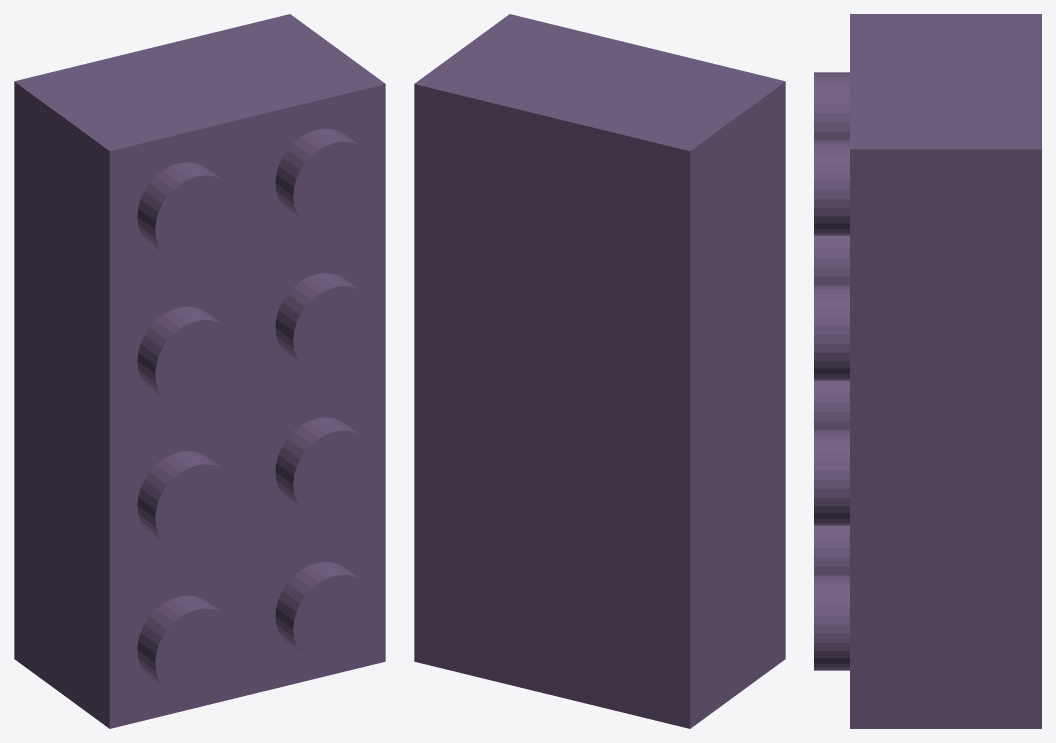
Rendered from brick_4.glb.
The picture shows the model from 3 angles, left to right: view 1: azimuth 30°, elevation 25°; view 2: azimuth 150°, elevation 25°; view 3: azimuth 270°, elevation 25°; orthographic projection.
Parts seen in each view (by area): view 1: world; view 2: world; view 3: world.
Part boxes in pixels (x1=…): world: x1=14, y1=14, x2=385, y2=728; world: x1=414, y1=14, x2=785, y2=728; world: x1=814, y1=14, x2=1041, y2=728.
Size of the model in its own units: 16 by 32 by 11.4.
